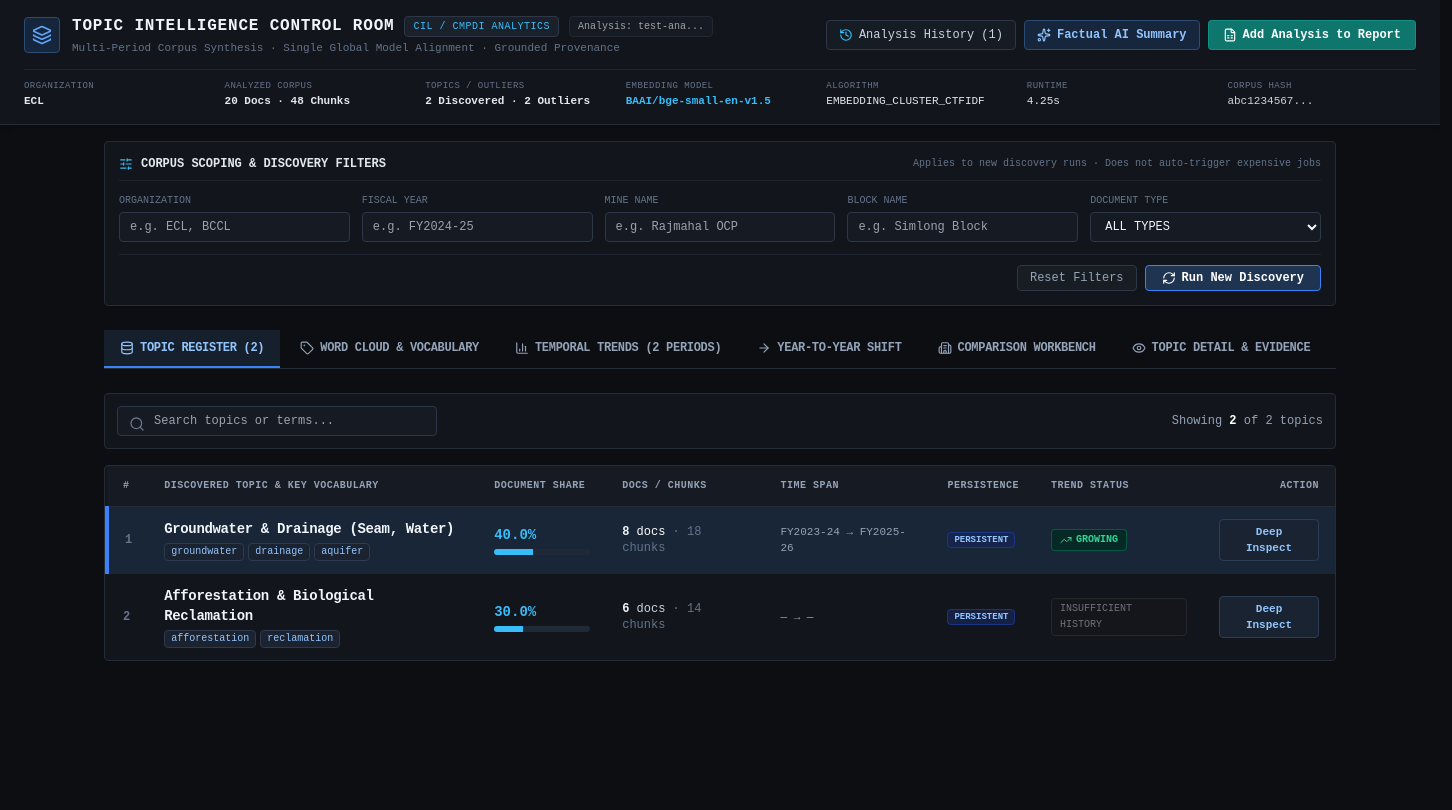
Test case: TopicIntelligence Component (Phase 8.4) › 3. Navigates to Word Cloud tab and displays term weights
Expected: the text "Groundwater & Drainage (Seam, Water)" is shown, [164,518,462,538]
What coordinates should you click on to do the following:
click the button "WORD CLOUD & VOCABULARY"
I would click on:
 (390, 348)
Its box is [284,330,495,368].
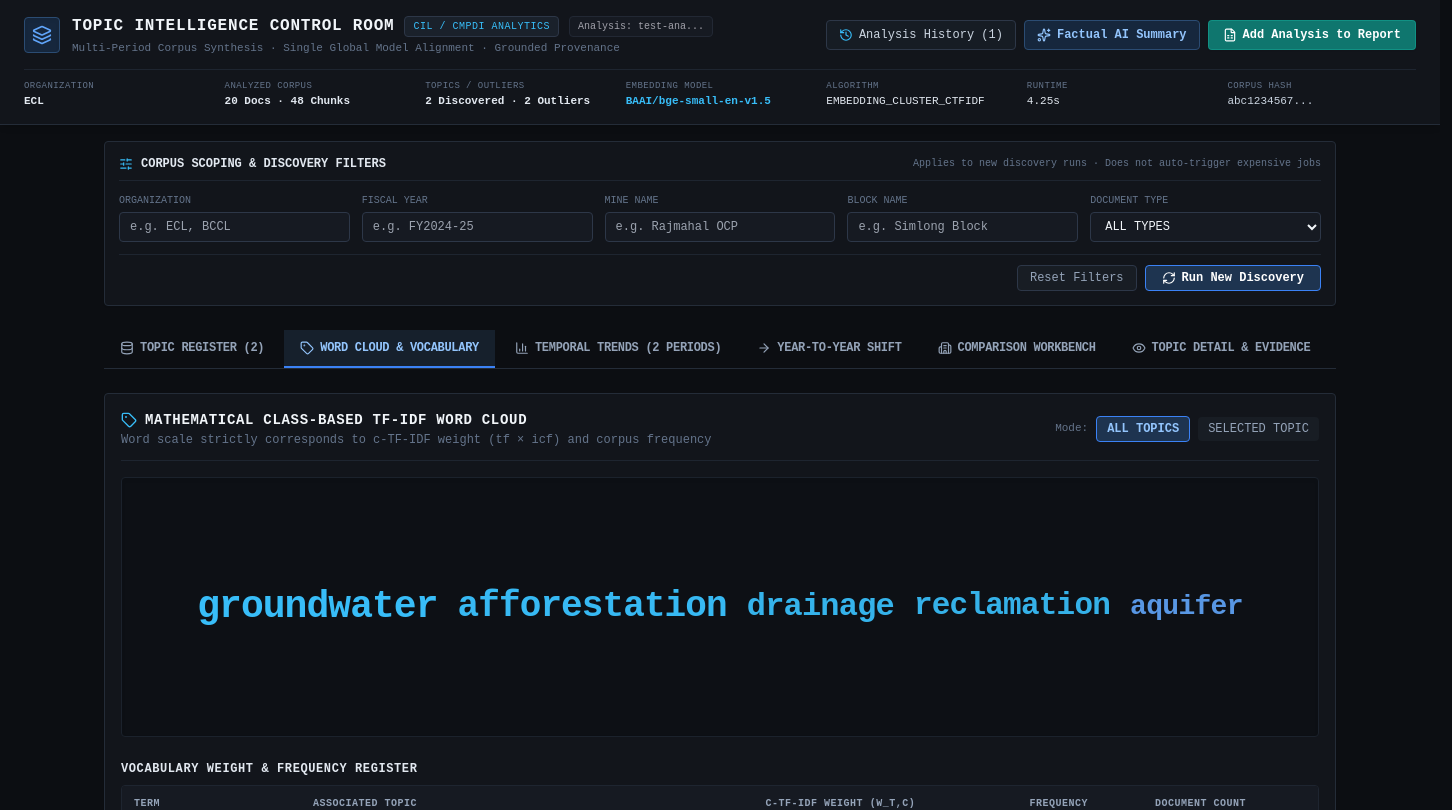
Expected: the heading "MATHEMATICAL CLASS-BASED TF-IDF WORD CLOUD" is shown, [121,412,527,428]
Expected: the text "groundwater" is shown, [197,578,438,635]
Expected: the text "afforestation" is shown, [458,580,727,634]
